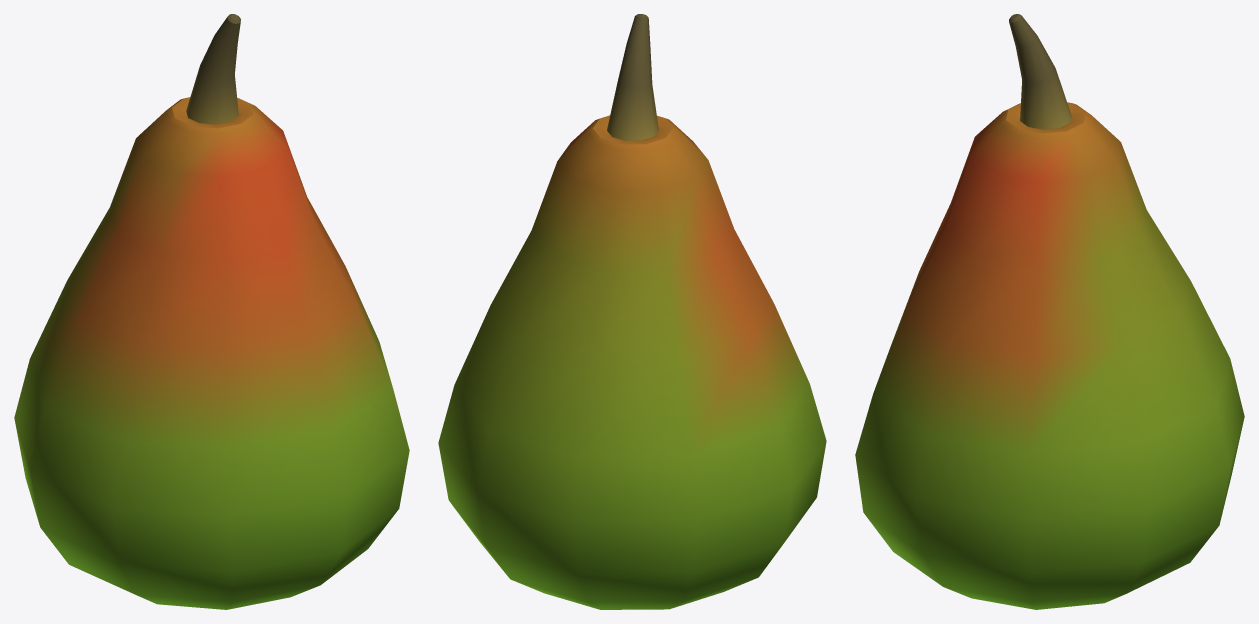
File: pearnotape.fbx
3 renders of one model, left to right at view 1: azimuth 30°, elevation 25°; view 2: azimuth 150°, elevation 25°; view 3: azimuth 270°, elevation 25°, orthographic. The views are drawn at different scales.
Visible parts, largest first — view 1: polySurface2; view 2: polySurface2; view 3: polySurface2.
Boxes of the visible parts, x1,y1,x2,y2 form: polySurface2: (14, 14, 409, 609); polySurface2: (438, 14, 826, 609); polySurface2: (855, 14, 1244, 609).
Bounding box in the file's own units: 3.26 × 5.14 × 3.21.
